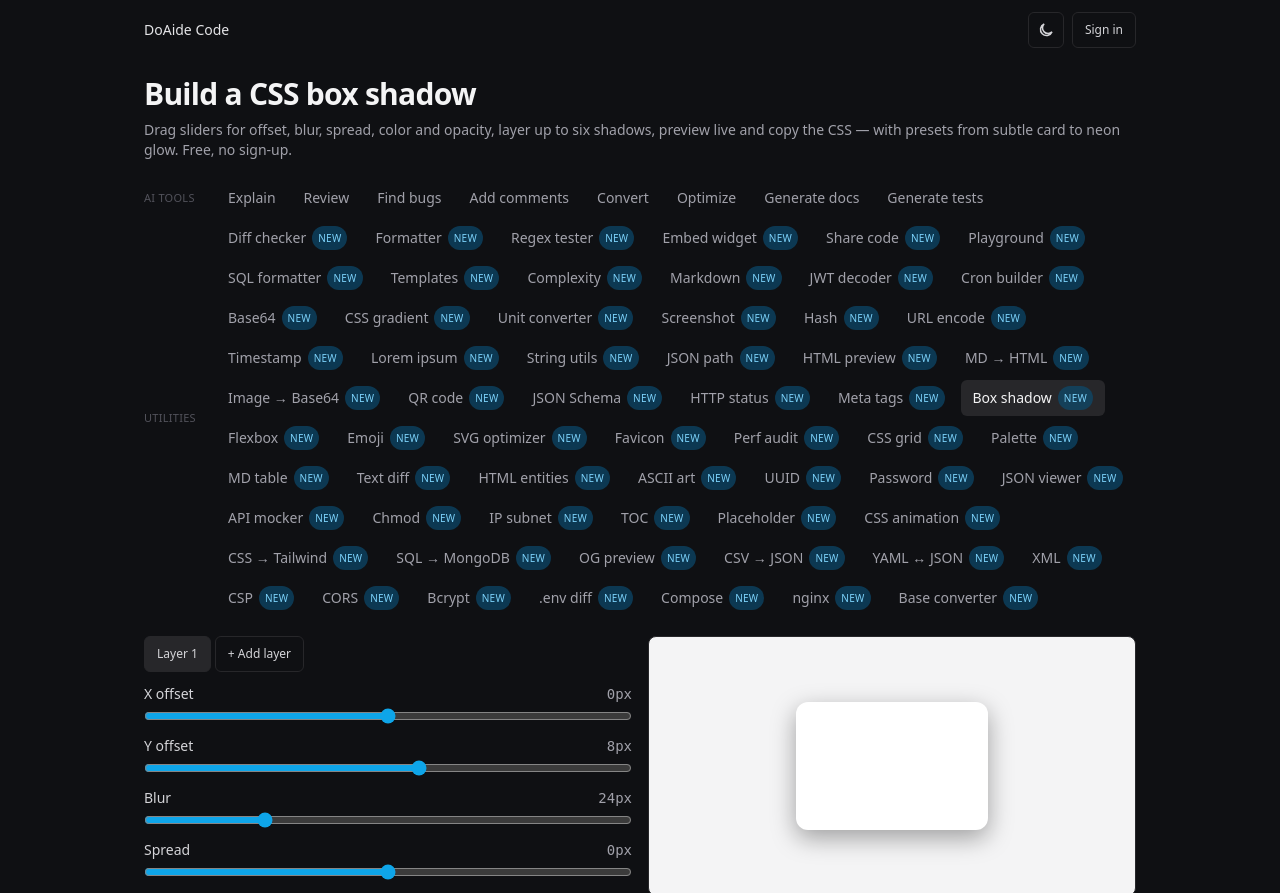
Test case: BoxShadowPage › updates the CSS as a slider moves
Set the slider with test id "shadow-blur" to "50" at (388, 820), box [144,812,632,828]
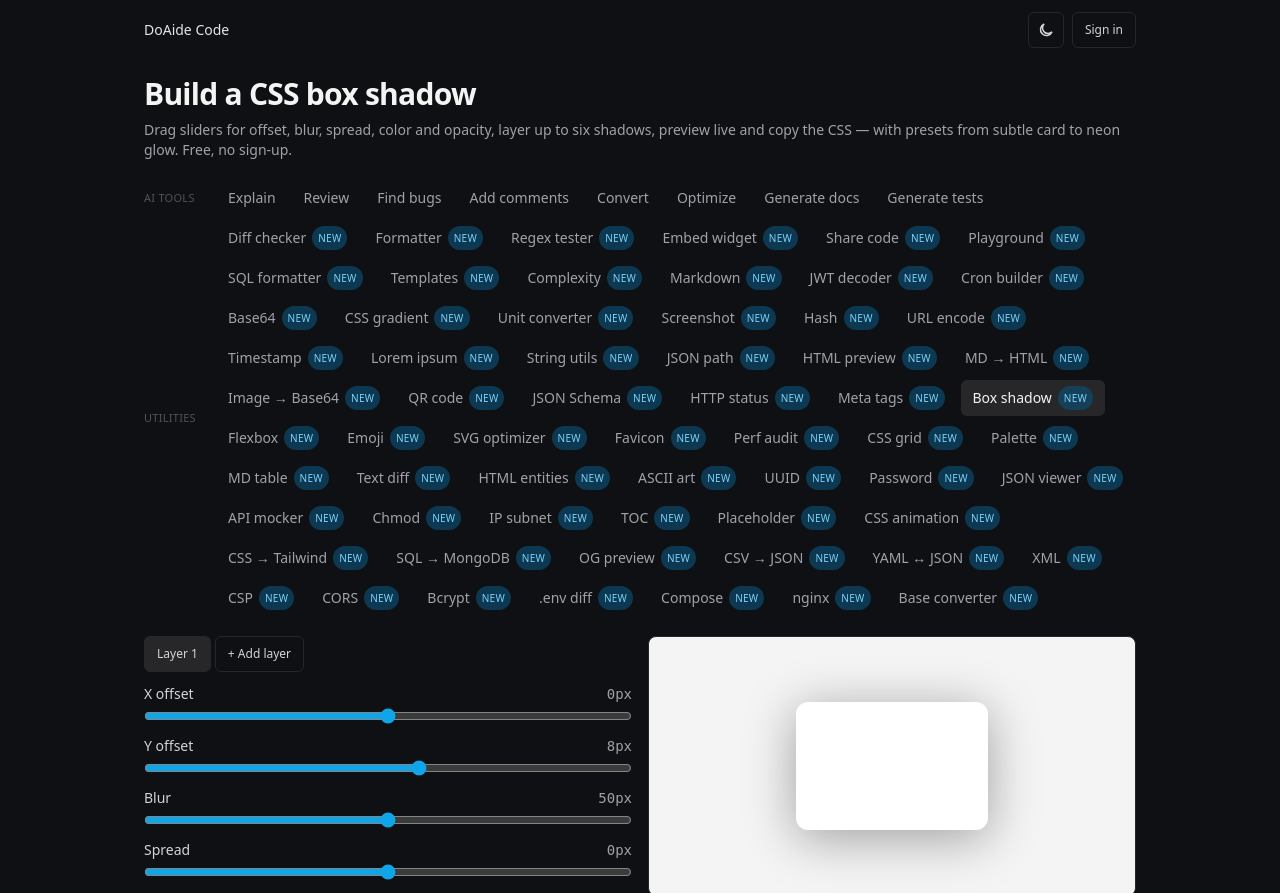
Now the text with test id "shadow-blur-value" reads "50px", box [598,788,632,808]
